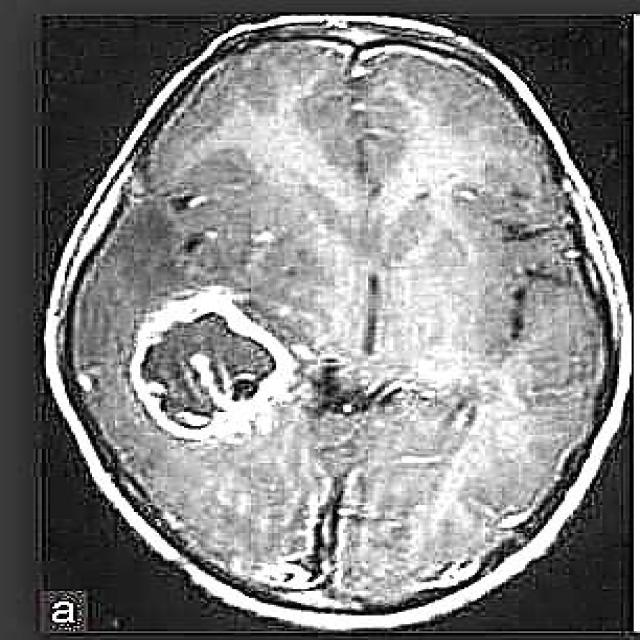Tumor-Cell: (112, 312, 273, 428)
